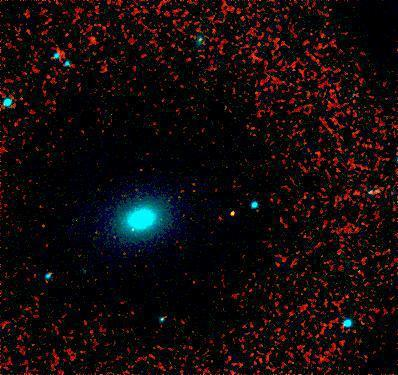star: (219, 198, 249, 228)
